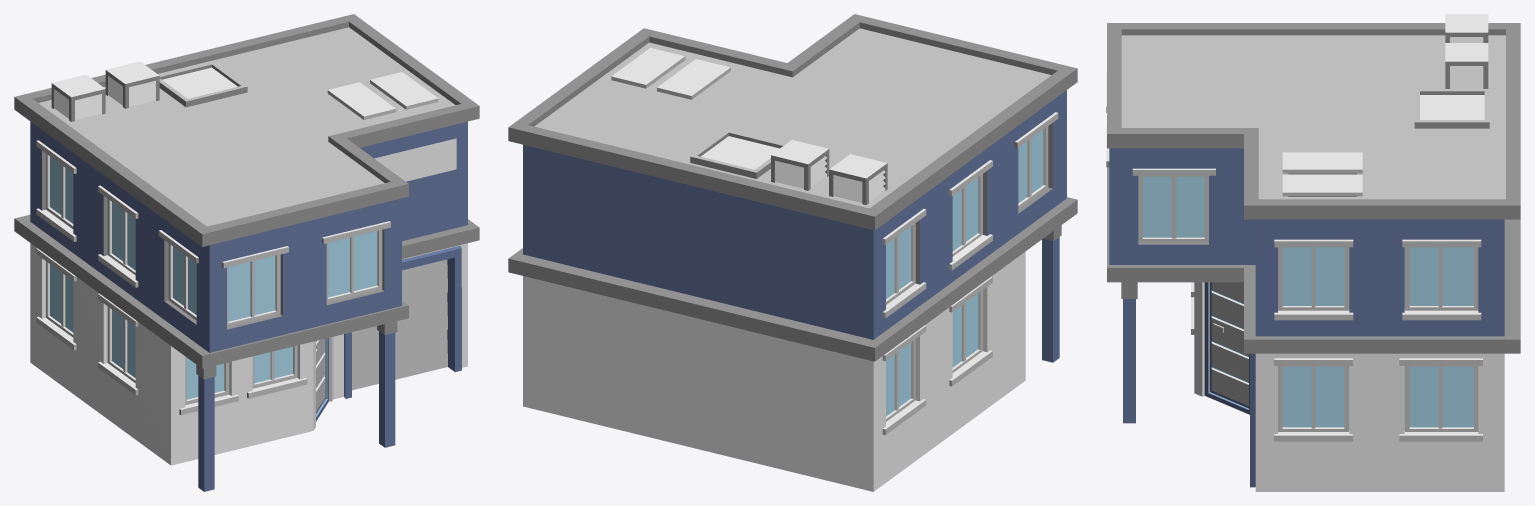
File: house_purpose_001.fbx
3 views of the same model, side by side, from view 1: azimuth 30°, elevation 25°; view 2: azimuth 150°, elevation 25°; view 3: azimuth 270°, elevation 25° (orthographic). The views are drawn at different scales.
Visible parts, largest first — view 1: house_purpose_001; view 2: house_purpose_001; view 3: house_purpose_001.
Part boxes in pixels (x1,y1,x2,y2): house_purpose_001: [14, 14, 479, 491]; house_purpose_001: [508, 14, 1077, 491]; house_purpose_001: [1106, 14, 1520, 491].
Bounding box in the file's own units: 794 × 635 × 761.
